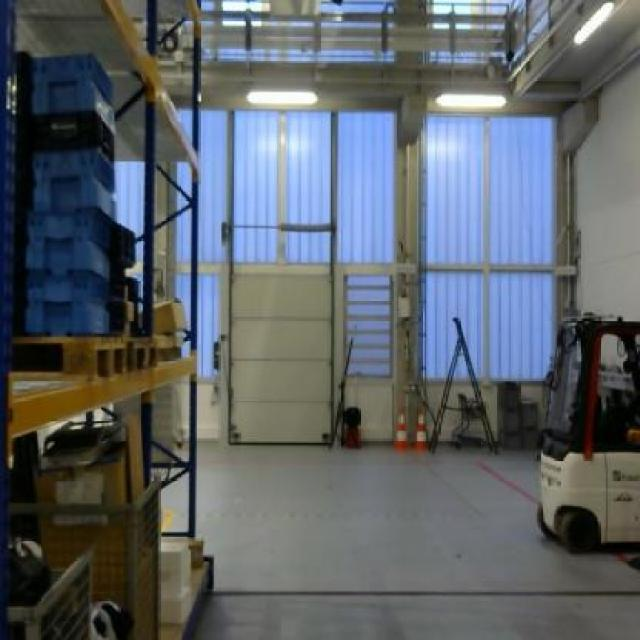box: (153, 298, 190, 334)
